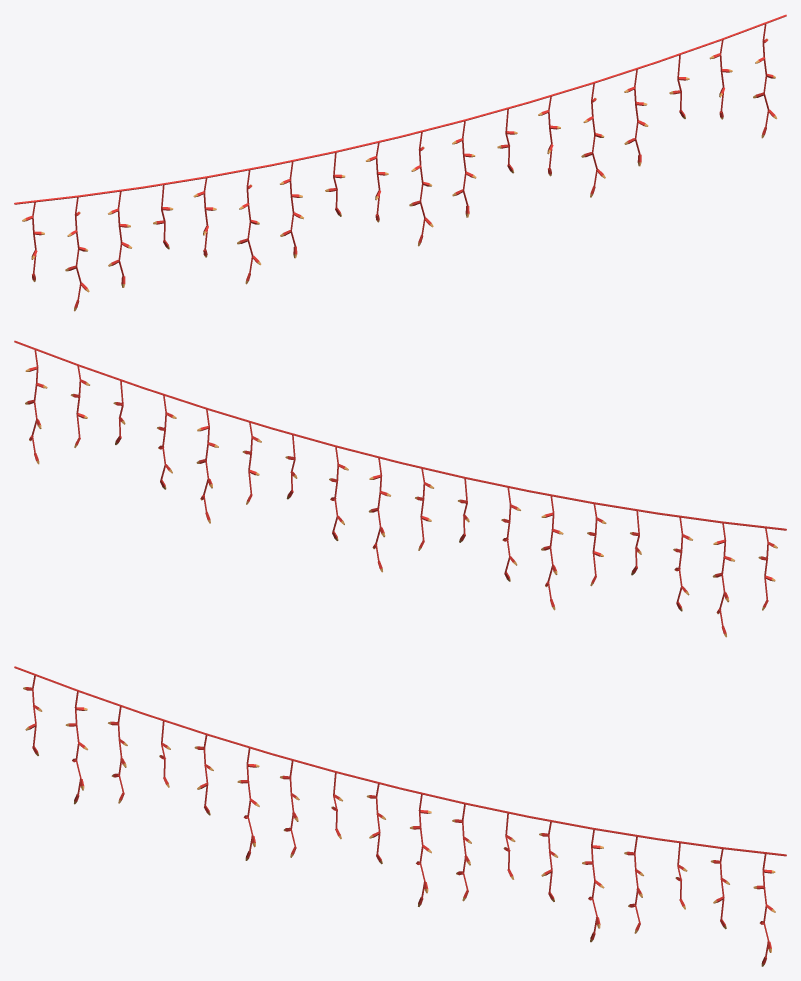
Rendered from SM_Light_String_White_Small_5m_Christmas.fbx.
3 views of the same model, one above another, from view 1: azimuth 30°, elevation 25°; view 2: azimuth 150°, elevation 25°; view 3: azimuth 330°, elevation 25° (orthographic).
Parts seen in each view (by area): view 1: light-string-white-small-5m-christmas; view 2: light-string-white-small-5m-christmas; view 3: light-string-white-small-5m-christmas.
Boxes of the visible parts, x1=… form: light-string-white-small-5m-christmas: x1=14, y1=14, x2=786, y2=311; light-string-white-small-5m-christmas: x1=14, y1=340, x2=786, y2=637; light-string-white-small-5m-christmas: x1=14, y1=666, x2=786, y2=966.
Bounding box in the file's own units: 5 × 0.8811 × 0.0886.
